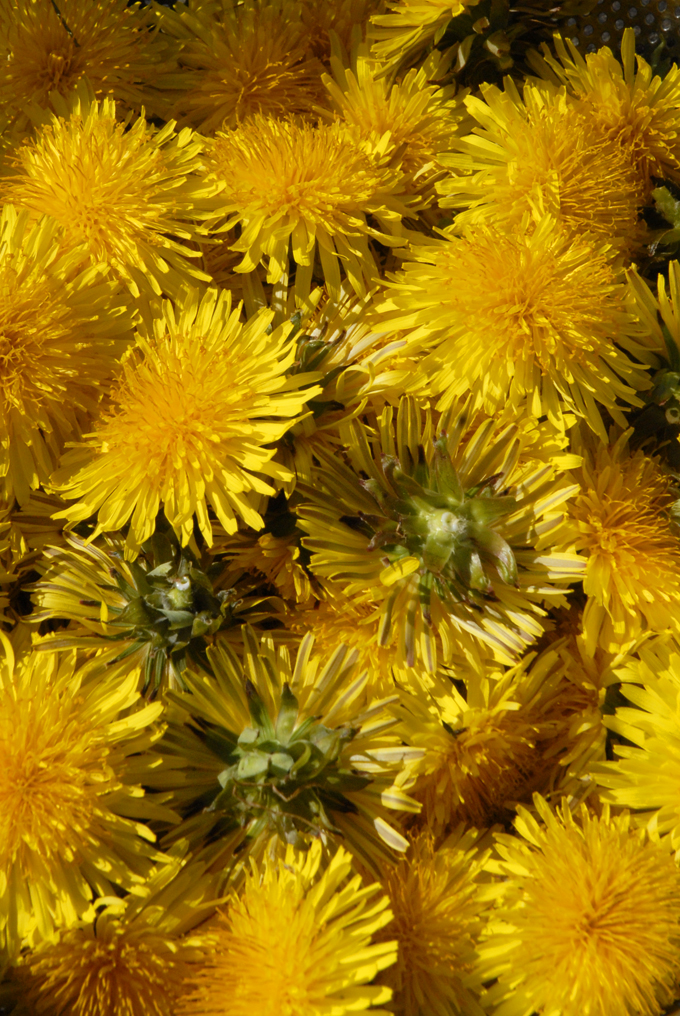dandelion: (2, 652, 185, 956), (60, 325, 319, 526), (377, 224, 635, 409), (453, 804, 680, 1010), (441, 41, 677, 234), (181, 842, 387, 1016), (26, 122, 221, 294), (202, 110, 404, 260), (29, 922, 179, 1016)
